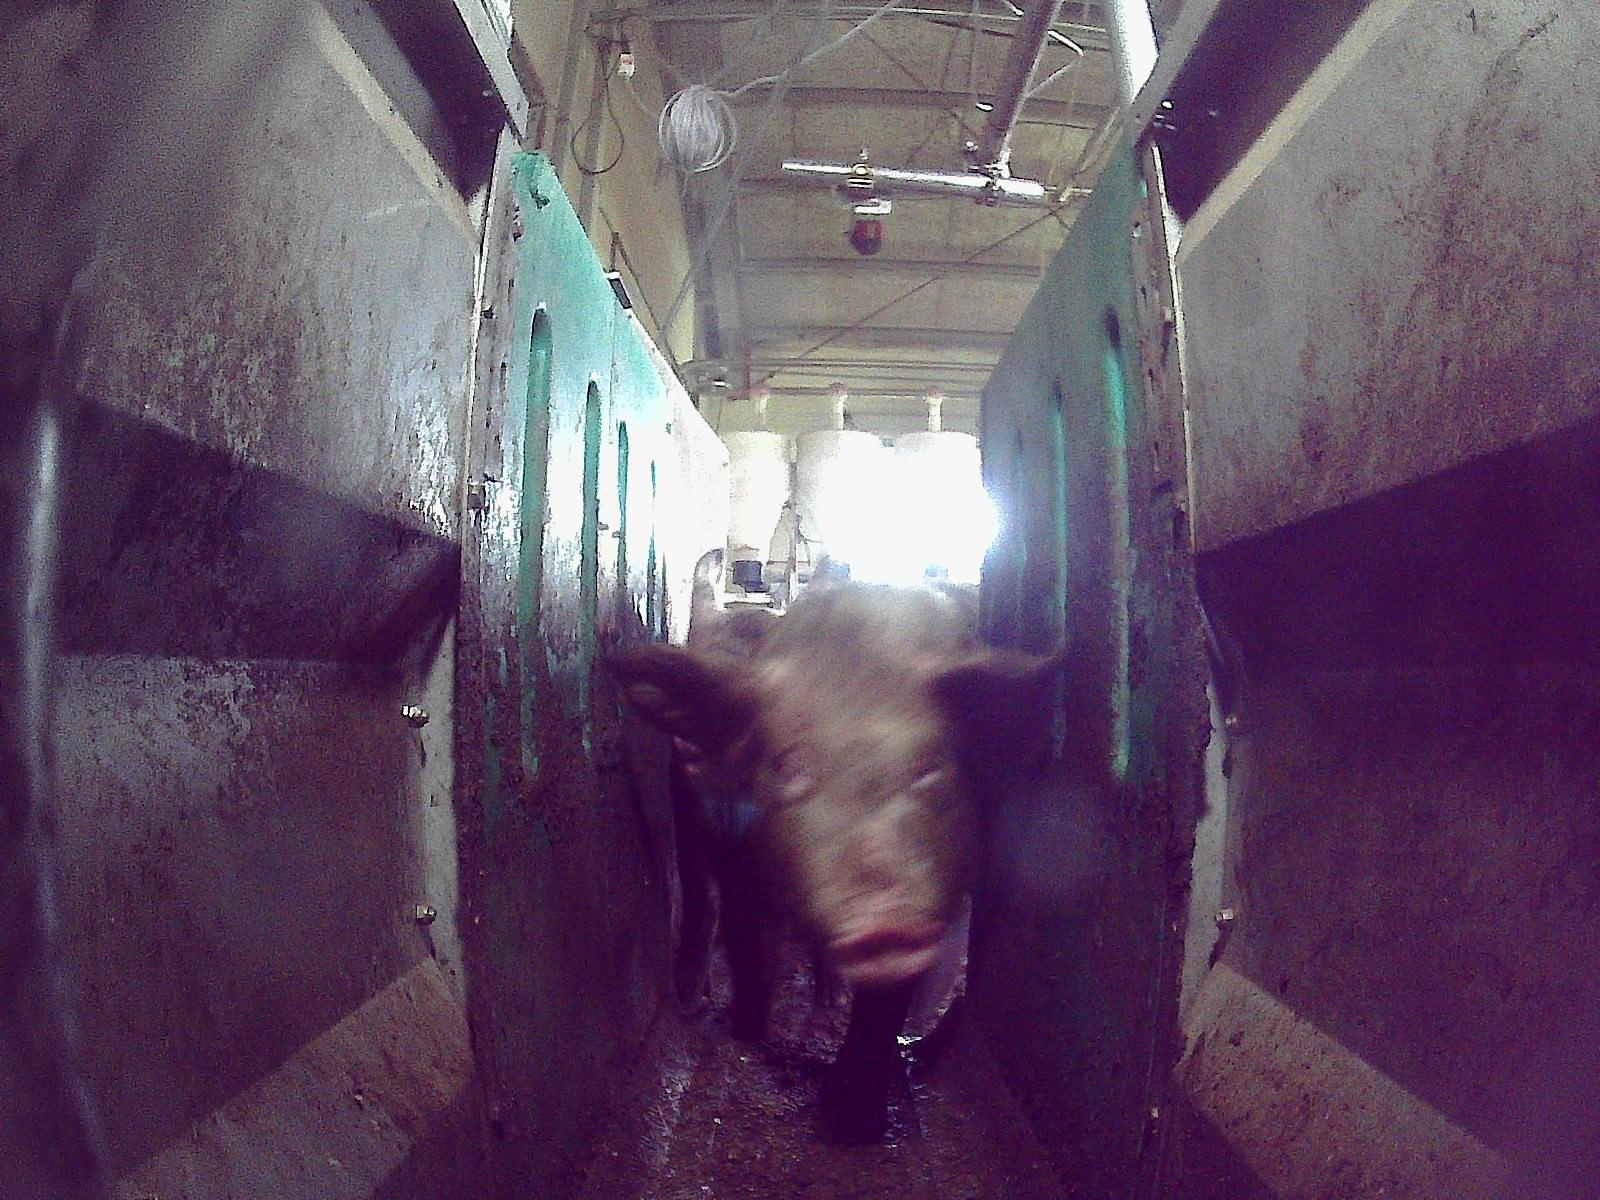Face: (737, 622, 983, 988)
